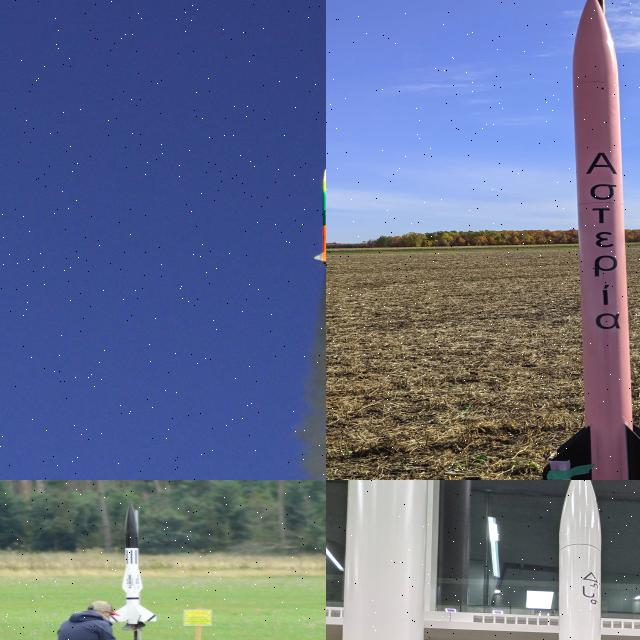Rocket: (543, 0, 640, 480), (559, 480, 602, 640), (108, 501, 158, 625), (313, 168, 326, 265)
